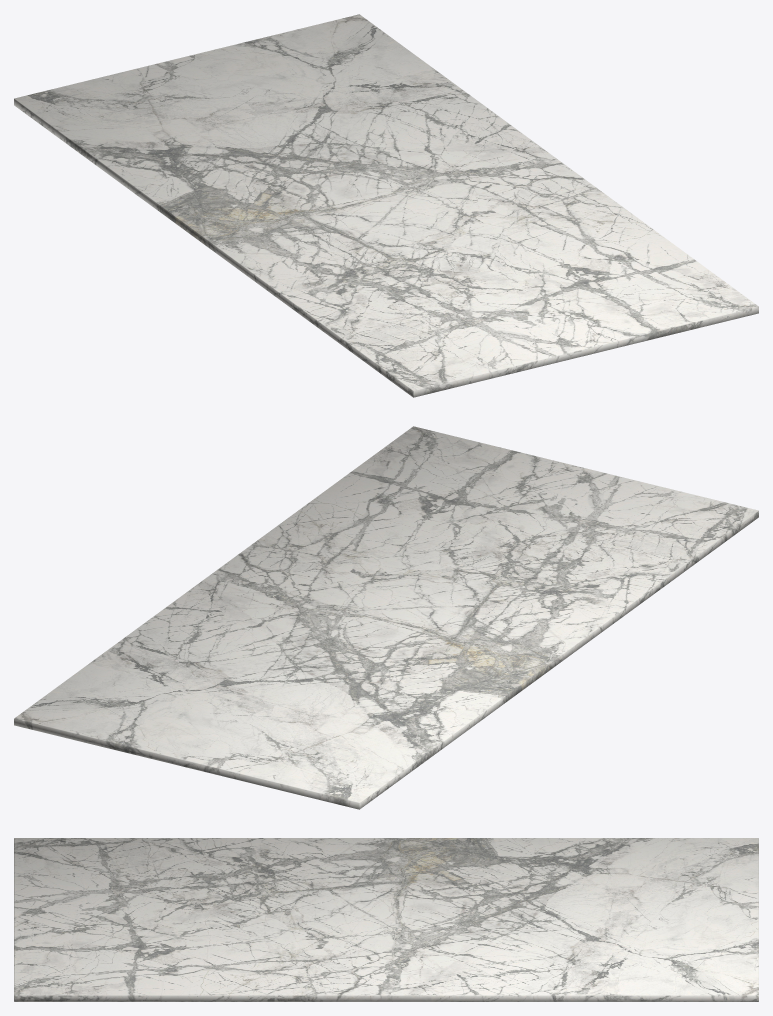
Rendered from LastraMarmo.glb.
The picture shows the model from 3 angles, top to bottom: view 1: azimuth 30°, elevation 25°; view 2: azimuth 150°, elevation 25°; view 3: azimuth 270°, elevation 25°; orthographic projection. The views are drawn at different scales.
Parts seen in each view (by area): view 1: root; view 2: root; view 3: root.
Part boxes in pixels (x1,y1,x2,y2): root: (14,14,758,397); root: (14,426,758,809); root: (14,838,758,1001).
Size of the model in its own units: 1.5 by 0.03 by 3.
Materials: 1 (1 with a texture image).
